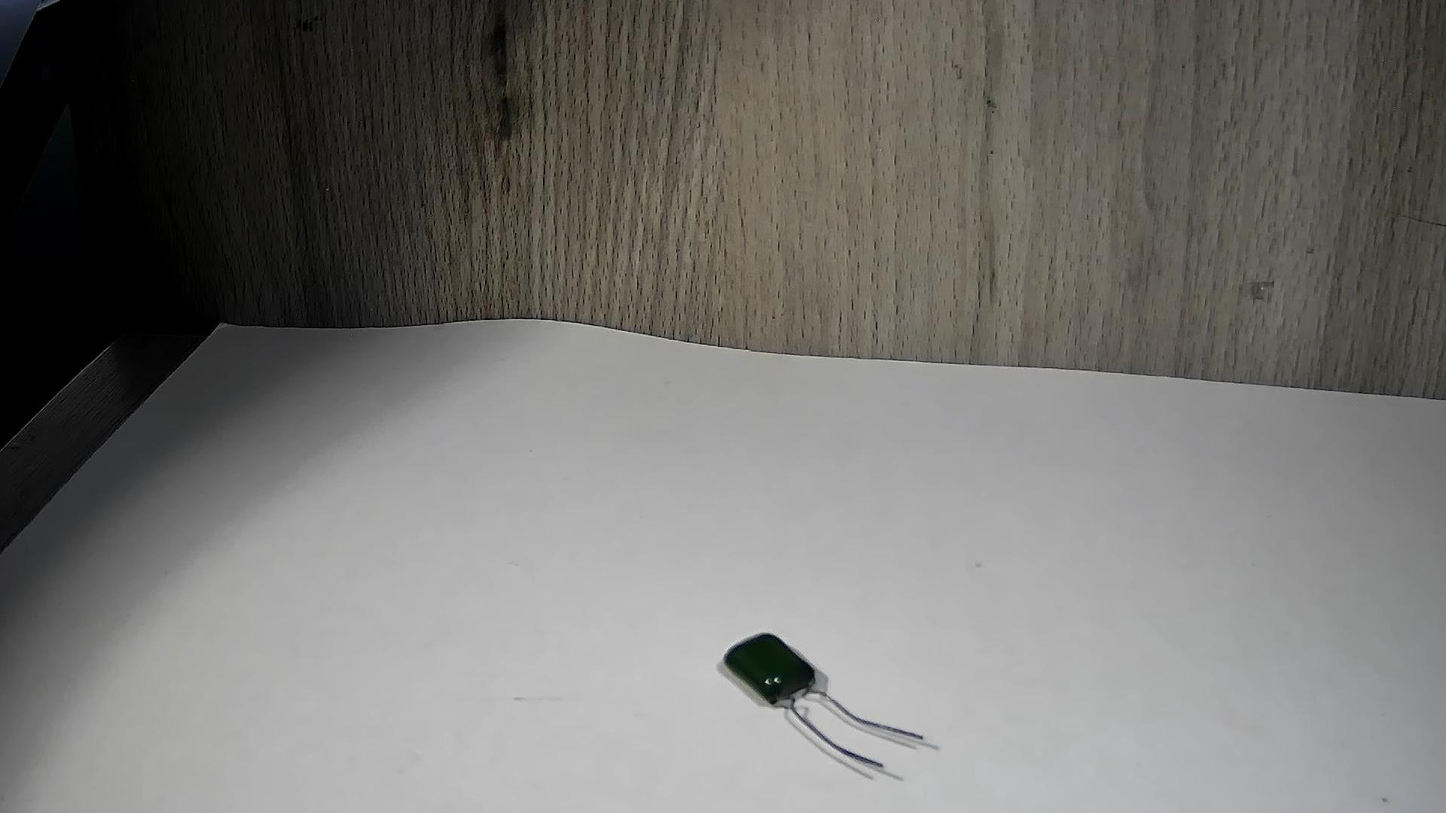capacitor ceramico: (696, 590, 962, 808)
